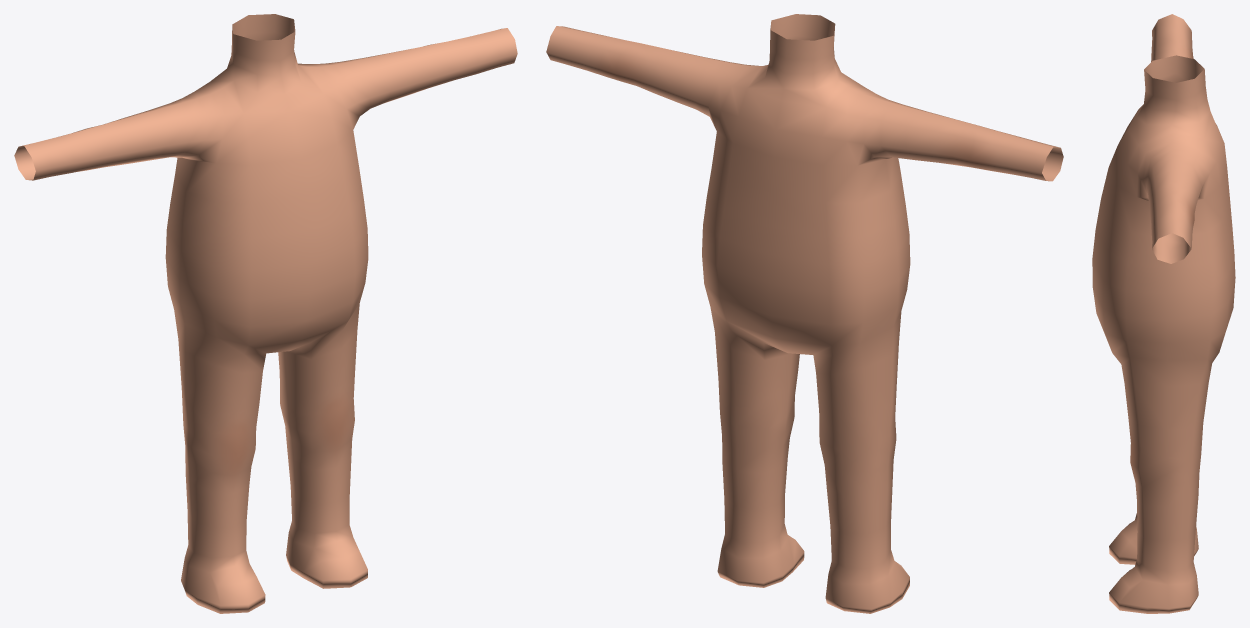
The model's file is Body_Yellow_2.fbx.
The picture shows the model from 3 angles, left to right: view 1: azimuth 30°, elevation 25°; view 2: azimuth 150°, elevation 25°; view 3: azimuth 270°, elevation 25°; orthographic projection. The views are drawn at different scales.
Parts seen in each view (by area): view 1: Body_Yellow_2; view 2: Body_Yellow_2; view 3: Body_Yellow_2.
Boxes of the visible parts, left/top/right/bottom form: Body_Yellow_2: left=14, top=14, right=517, bottom=613; Body_Yellow_2: left=546, top=14, right=1063, bottom=613; Body_Yellow_2: left=1092, top=14, right=1235, bottom=613.
Size of the model in its own units: 95.86 by 104 by 26.46.
